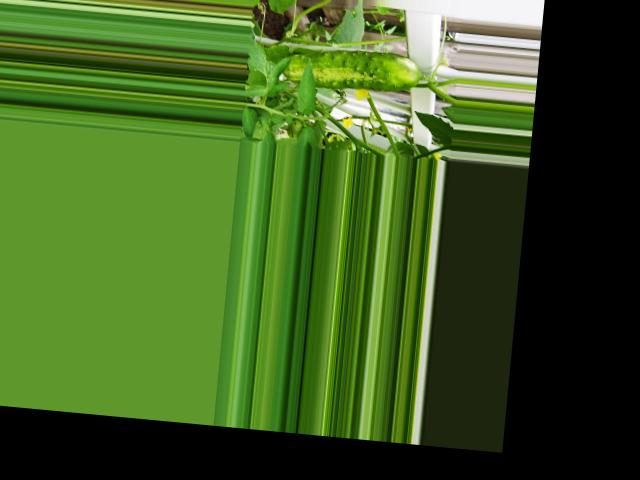cucumber: (283, 43, 423, 95)
